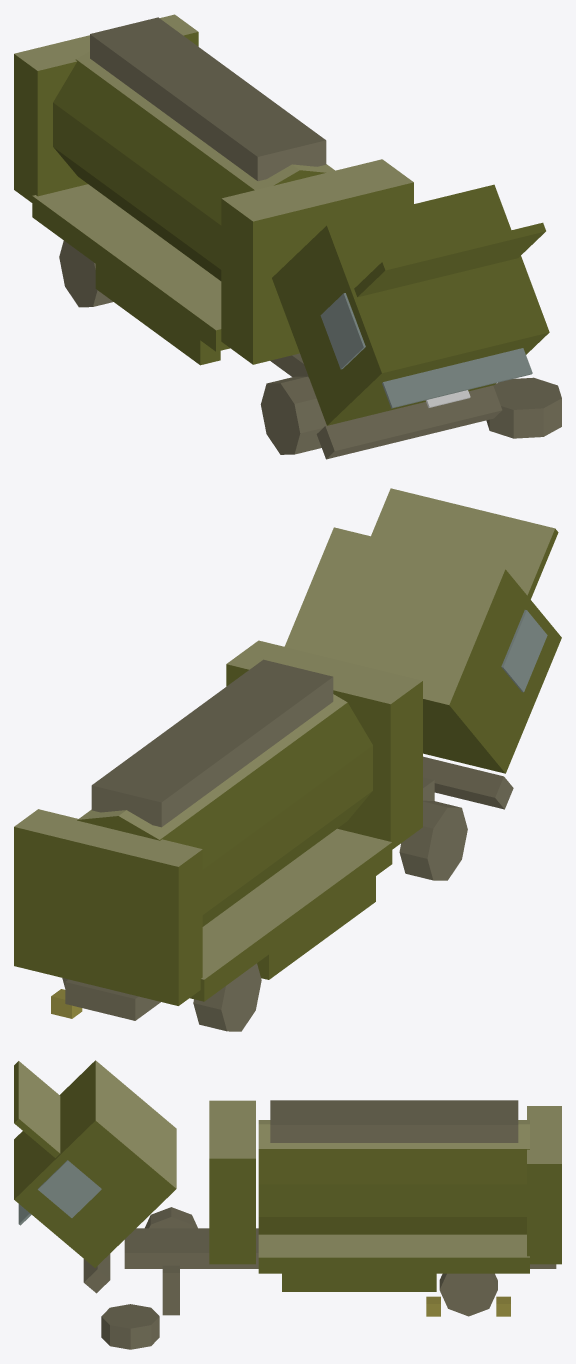
The model's file is SM_CamionCisterna_v3_Averiado_LOD1.fbx.
3 renders of one model, top to bottom at view 1: azimuth 30°, elevation 25°; view 2: azimuth 150°, elevation 25°; view 3: azimuth 270°, elevation 25°, orthographic. The views are drawn at different scales.
Parts seen in each view (by area): view 1: SM_camion_cisterna_v3_LOD1; view 2: SM_camion_cisterna_v3_LOD1; view 3: SM_camion_cisterna_v3_LOD1.
Boxes of the visible parts, <box> form: SM_camion_cisterna_v3_LOD1: <box>14,14,561,459</box>; SM_camion_cisterna_v3_LOD1: <box>14,488,561,1031</box>; SM_camion_cisterna_v3_LOD1: <box>14,1060,561,1349</box>.
Size of the model in its own units: 3.76 by 3.76 by 9.4.
